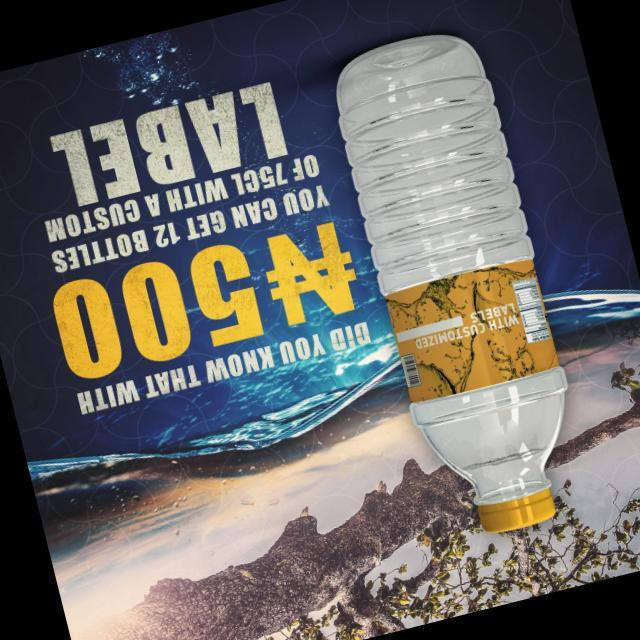good: (312, 0, 607, 563)
